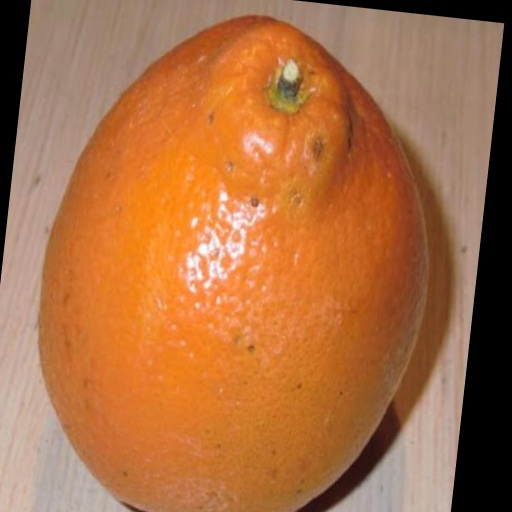fruit: (39, 17, 426, 512)
